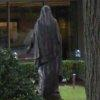Statue: (26, 2, 73, 99)
